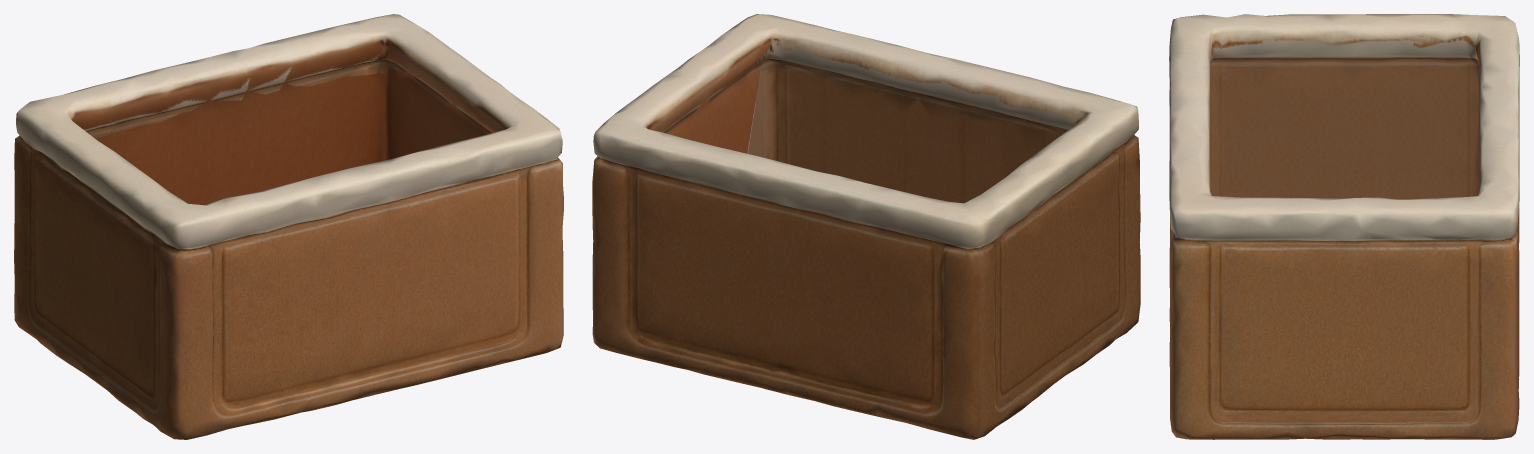
The model's file is P_CrateBody_h42.fbx.
3 renders of one model, left to right at view 1: azimuth 30°, elevation 25°; view 2: azimuth 150°, elevation 25°; view 3: azimuth 270°, elevation 25°, orthographic. The views are drawn at different scales.
Parts seen in each view (by area): view 1: texture_mapping; view 2: texture_mapping; view 3: texture_mapping.
Part boxes in pixels (x1=…): texture_mapping: x1=14, y1=14, x2=563, y2=439; texture_mapping: x1=592, y1=14, x2=1140, y2=439; texture_mapping: x1=1169, y1=14, x2=1519, y2=439.
Bounding box in the file's own units: 99.99 × 54.35 × 73.9.
1 material, 1 textured.
